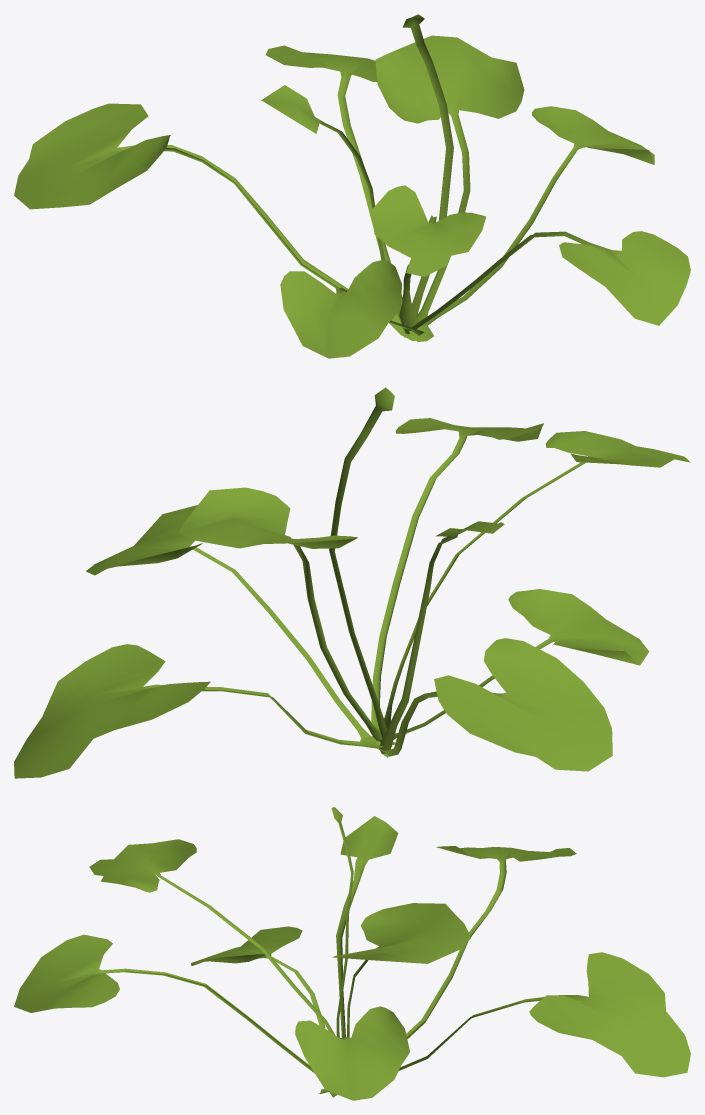
Rendered from groundcover_plant_07.fbx.
The picture shows the model from 3 angles, top to bottom: view 1: azimuth 30°, elevation 25°; view 2: azimuth 150°, elevation 25°; view 3: azimuth 270°, elevation 25°; orthographic projection. The views are drawn at different scales.
Visible parts, largest first — view 1: groundcover_plant_07_LOD0; view 2: groundcover_plant_07_LOD0; view 3: groundcover_plant_07_LOD0.
Boxes of the visible parts, bbox=[...] form: groundcover_plant_07_LOD0: bbox=[14, 14, 690, 358]; groundcover_plant_07_LOD0: bbox=[14, 387, 690, 778]; groundcover_plant_07_LOD0: bbox=[14, 807, 690, 1100].
Size of what is drawn, in the model's own units: 0.2517 by 0.1445 by 0.3067.
